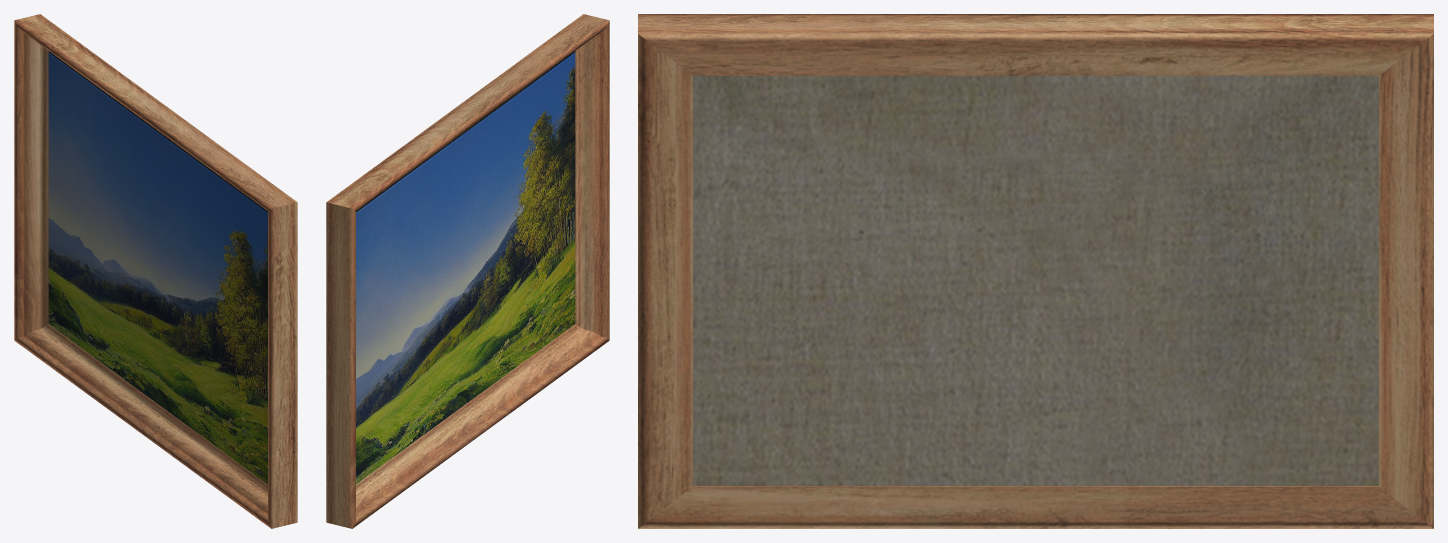
File: PaintingGreenHills1.fbx
3 views of the same model, side by side, from view 1: azimuth 30°, elevation 25°; view 2: azimuth 150°, elevation 25°; view 3: azimuth 270°, elevation 25° (orthographic). The views are drawn at different scales.
Visible parts, largest first — view 1: PaintingWide1, PaintingFrame; view 2: PaintingWide1, PaintingFrame; view 3: PaintingBackside, PaintingFrame.
Boxes of the visible parts, box(x1,y1,x2,y2) form: PaintingWide1: box(48, 51, 267, 484); PaintingFrame: box(14, 14, 297, 528); PaintingWide1: box(356, 51, 575, 484); PaintingFrame: box(326, 14, 609, 528); PaintingBackside: box(693, 75, 1378, 485); PaintingFrame: box(638, 14, 1433, 528).
Size of the model in its own units: 9.45 by 111 by 162.
Materials: 3 (3 with a texture image).
